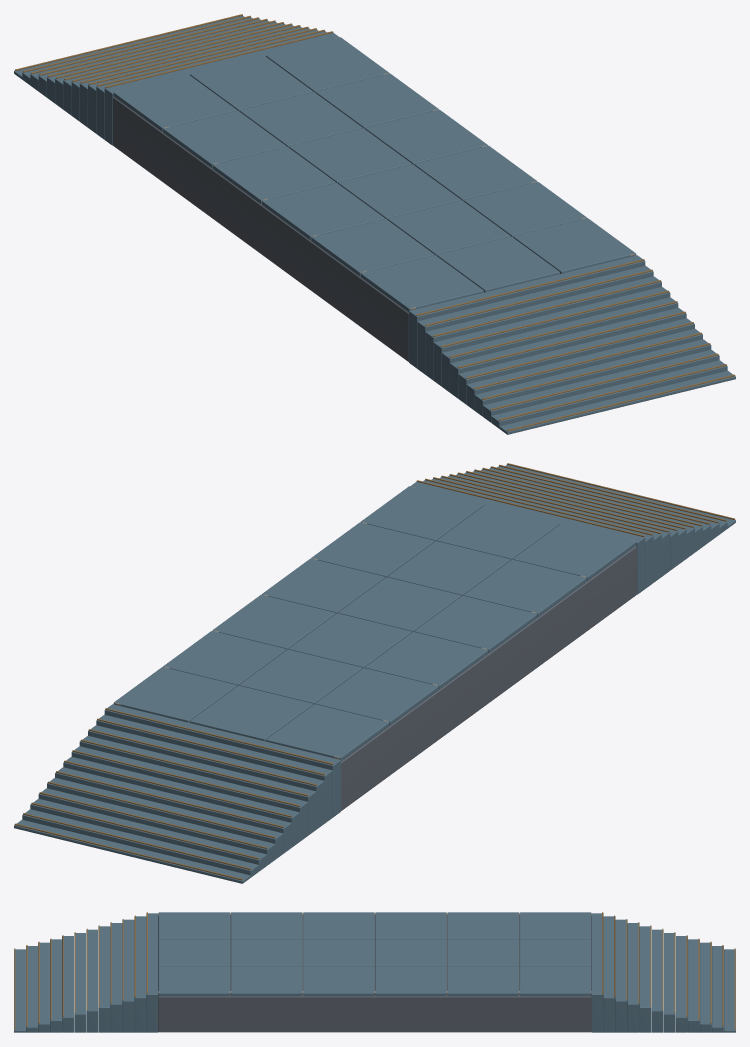
The model's file is sanctum_terrace.glb.
The picture shows the model from 3 angles, top to bottom: view 1: azimuth 30°, elevation 25°; view 2: azimuth 150°, elevation 25°; view 3: azimuth 270°, elevation 25°; orthographic projection. The views are drawn at different scales.
Visible parts, largest first — view 1: Terrace_geometry, Basalt_geometry.001, Bronze_geometry.002; view 2: Terrace_geometry, Basalt_geometry.001, Bronze_geometry.002; view 3: Terrace_geometry, Basalt_geometry.001, Bronze_geometry.002.
Boxes of the visible parts, box(x1,y1,x2,y2) form: Terrace_geometry: box(14, 15, 735, 434); Basalt_geometry.001: box(113, 97, 408, 361); Bronze_geometry.002: box(14, 14, 735, 431); Terrace_geometry: box(14, 464, 735, 883); Basalt_geometry.001: box(341, 546, 636, 810); Bronze_geometry.002: box(14, 463, 735, 880); Terrace_geometry: box(14, 912, 735, 1032); Basalt_geometry.001: box(158, 915, 591, 1032); Bronze_geometry.002: box(14, 912, 735, 1030).
Size of the model in its own units: 5.35 by 1.2 by 20.
